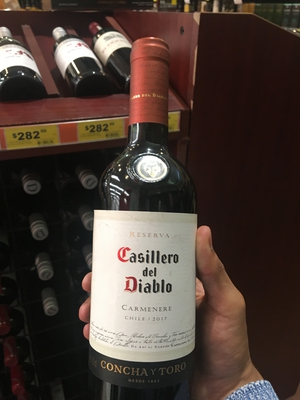casillero del diablo carmenere: (90, 35, 214, 391)
